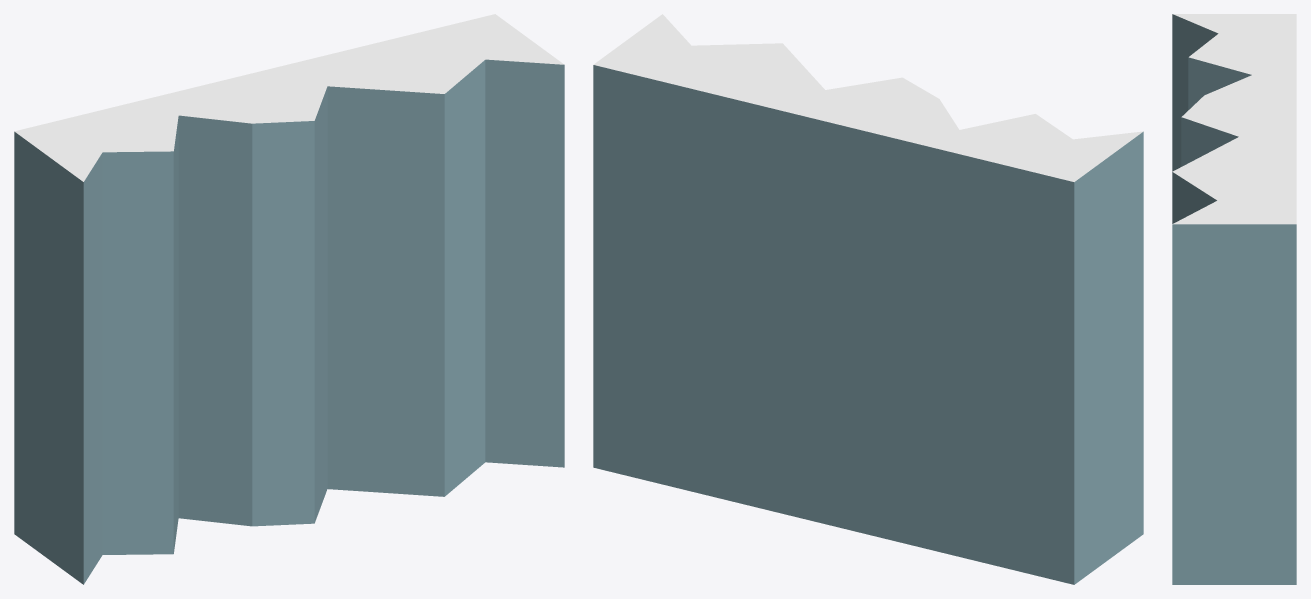
File: Terrain_Modular_Tiles_Snow_Ice_Cliff_Side_02.fbx
3 views of the same model, side by side, from view 1: azimuth 30°, elevation 25°; view 2: azimuth 150°, elevation 25°; view 3: azimuth 270°, elevation 25° (orthographic). The views are drawn at different scales.
Parts seen in each view (by area): view 1: Terrain_Modular_Tiles_Snow_Ice_Cliff_Side_02; view 2: Terrain_Modular_Tiles_Snow_Ice_Cliff_Side_02; view 3: Terrain_Modular_Tiles_Snow_Ice_Cliff_Side_02.
Part boxes in pixels (bbox=[...]): Terrain_Modular_Tiles_Snow_Ice_Cliff_Side_02: bbox=[14, 14, 564, 584]; Terrain_Modular_Tiles_Snow_Ice_Cliff_Side_02: bbox=[593, 14, 1143, 584]; Terrain_Modular_Tiles_Snow_Ice_Cliff_Side_02: bbox=[1172, 14, 1296, 584].
Bounding box in the file's own units: 3000 × 2400 × 750.
